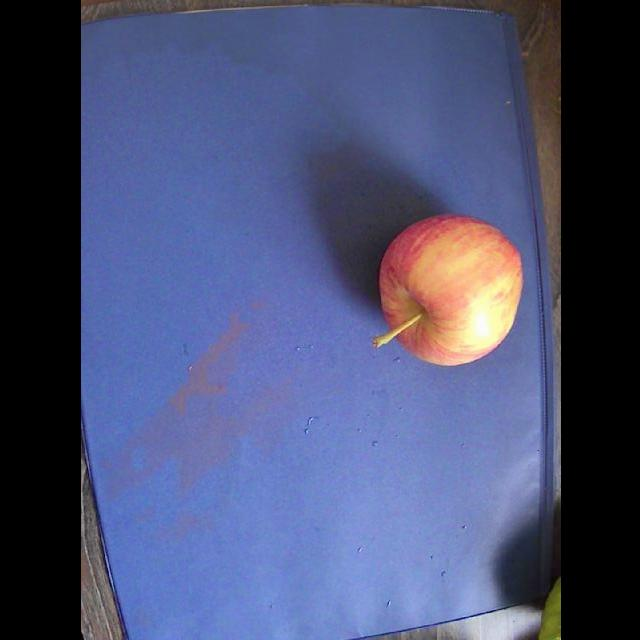manzana: (373, 214, 522, 365)
